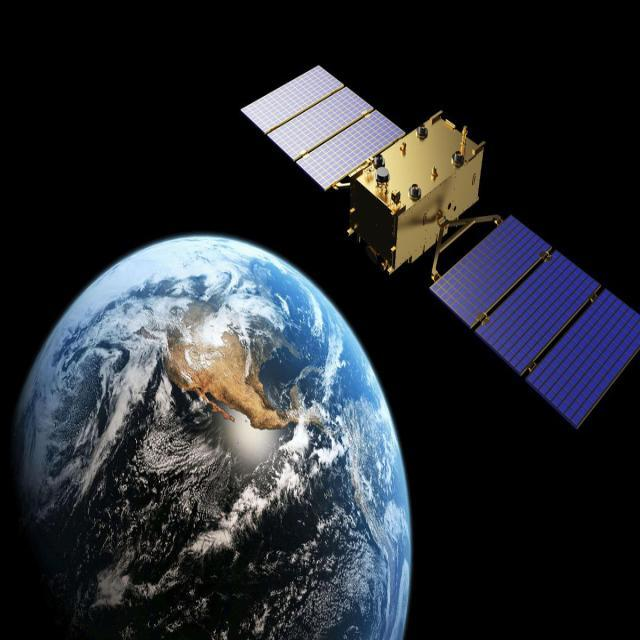sat: (238, 54, 640, 436)
